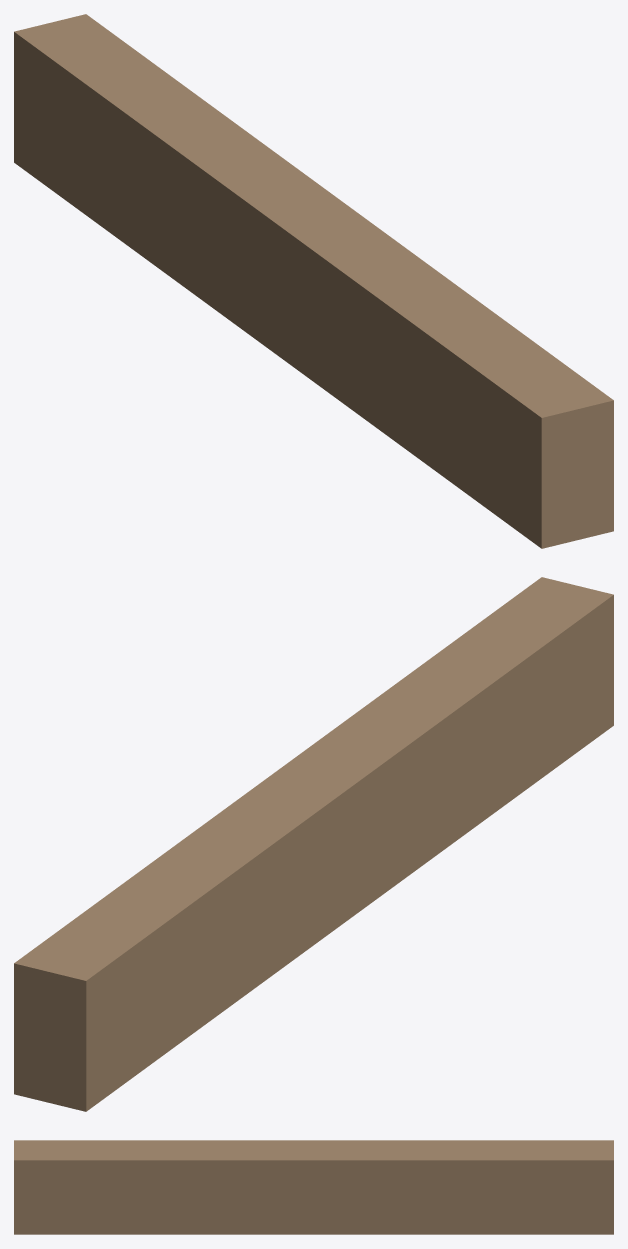
File: bridge_brace.glb
The picture shows the model from 3 angles, top to bottom: view 1: azimuth 30°, elevation 25°; view 2: azimuth 150°, elevation 25°; view 3: azimuth 270°, elevation 25°; orthographic projection. The views are drawn at different scales.
Parts seen in each view (by area): view 1: bridge_brace; view 2: bridge_brace; view 3: bridge_brace.
Part boxes in pixels (x1=…): bridge_brace: x1=14, y1=14, x2=613, y2=548; bridge_brace: x1=14, y1=577, x2=613, y2=1111; bridge_brace: x1=14, y1=1140, x2=613, y2=1234.
Bounding box in the file's own units: 0.075 × 0.13 × 0.95.
